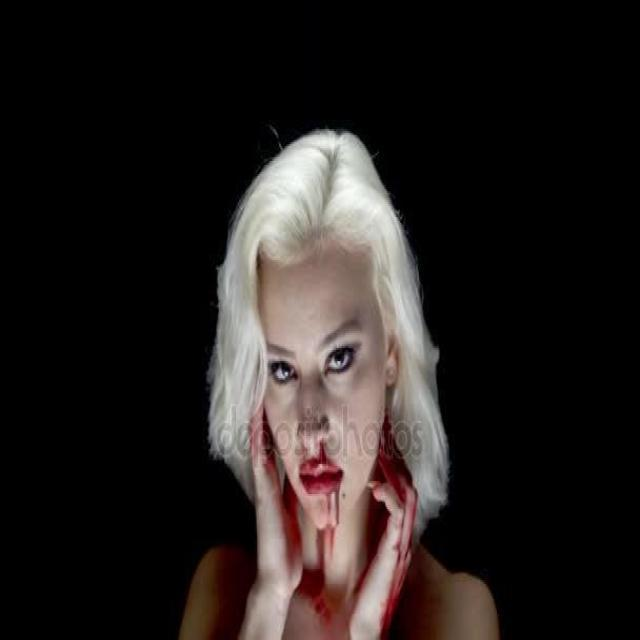flood: (258, 408, 423, 640)
